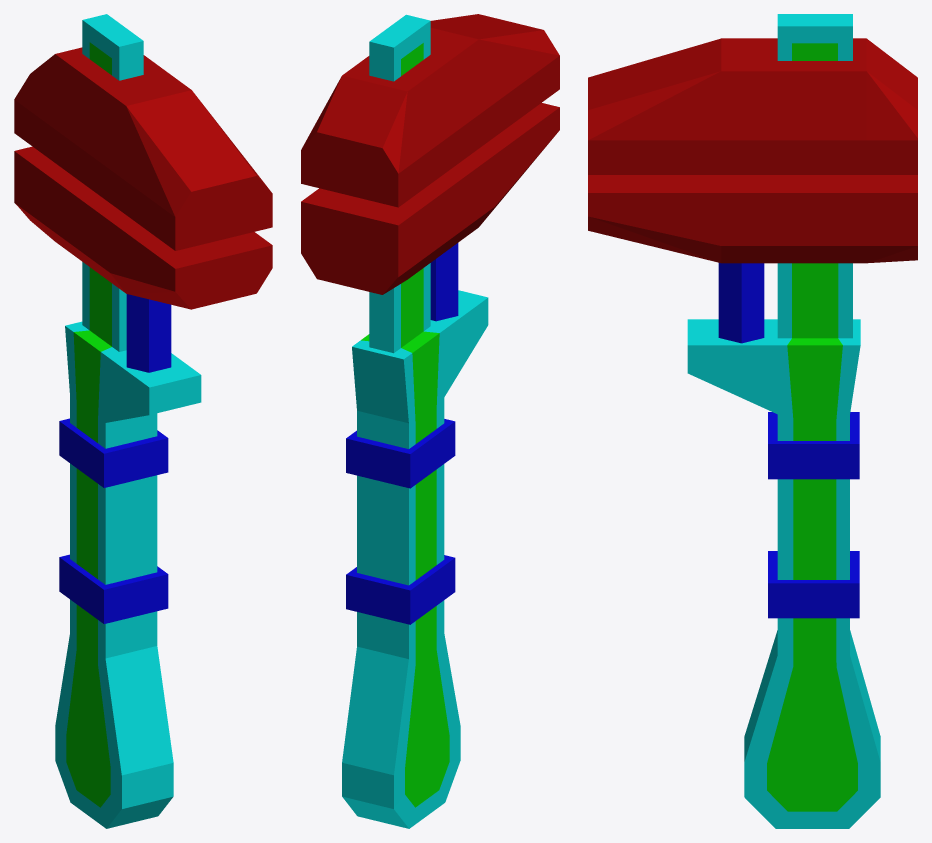
File: Mace_Common_Wrench.fbx
The picture shows the model from 3 angles, left to right: view 1: azimuth 30°, elevation 25°; view 2: azimuth 150°, elevation 25°; view 3: azimuth 270°, elevation 25°; orthographic projection. The views are drawn at different scales.
Parts seen in each view (by area): view 1: SM_Wep_Dwarf_01; view 2: SM_Wep_Dwarf_01; view 3: SM_Wep_Dwarf_01.
Part boxes in pixels (<box>): SM_Wep_Dwarf_01: <box>14,14,272,828</box>; SM_Wep_Dwarf_01: <box>301,14,559,828</box>; SM_Wep_Dwarf_01: <box>588,14,917,828</box>.
Size of the model in its own units: 10.34 by 79.07 by 29.7.
